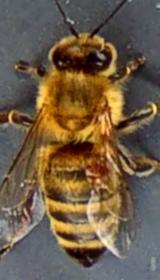varroa_mite: (76, 146, 114, 186)
